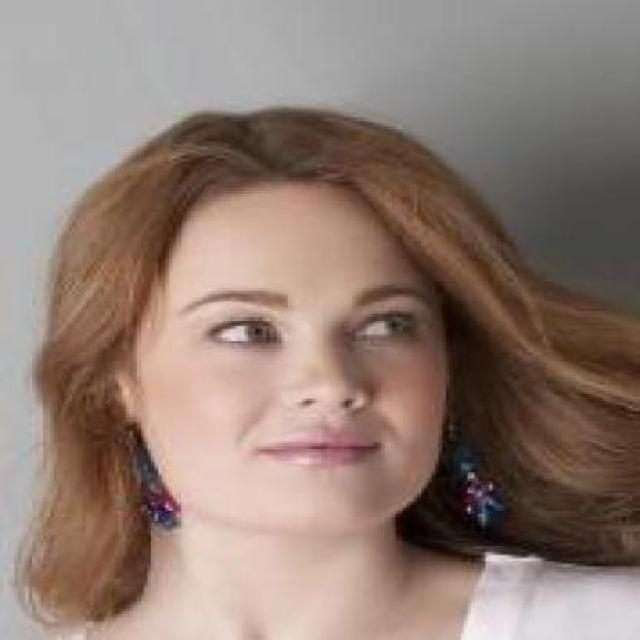closed-mouth: (260, 430, 378, 466)
